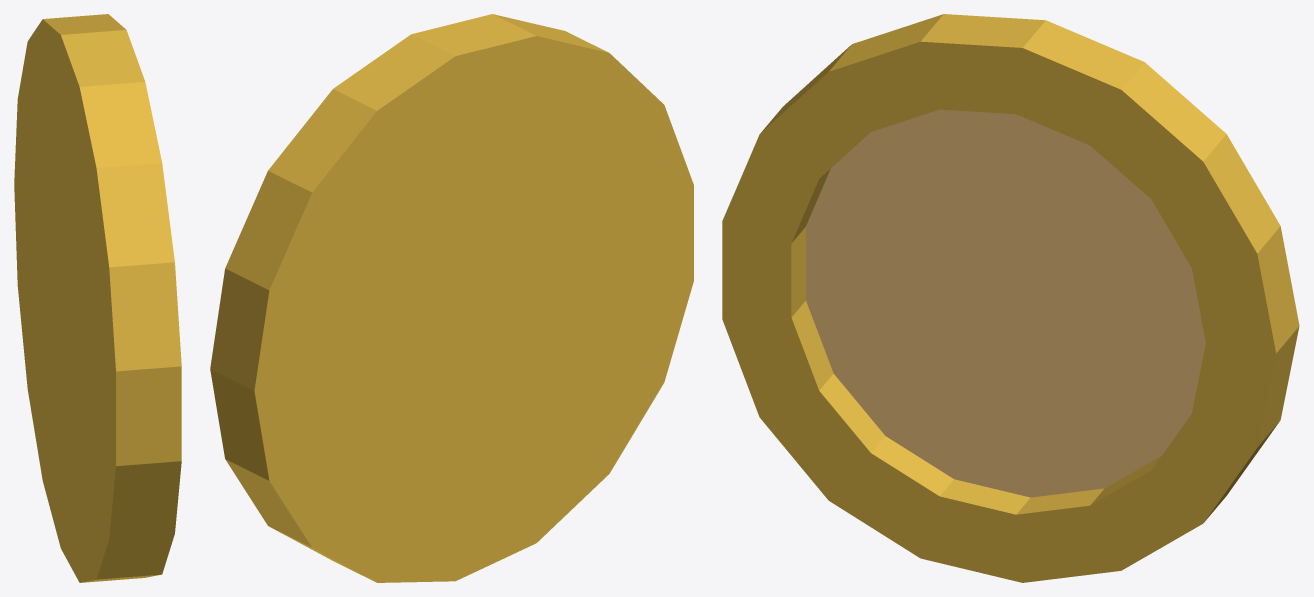
File: OldGuyCoinFlipFIREJETp2.fbx
3 views of the same model, side by side, from view 1: azimuth 30°, elevation 25°; view 2: azimuth 150°, elevation 25°; view 3: azimuth 270°, elevation 25° (orthographic). The views are drawn at different scales.
Visible parts, largest first — view 1: Cylinder; view 2: Cylinder; view 3: Cylinder.
Part boxes in pixels (bbox=[...]): Cylinder: bbox=[14, 14, 181, 582]; Cylinder: bbox=[210, 14, 693, 582]; Cylinder: bbox=[722, 14, 1299, 582].
Size of the model in its own units: 57.83 by 130 by 127.
